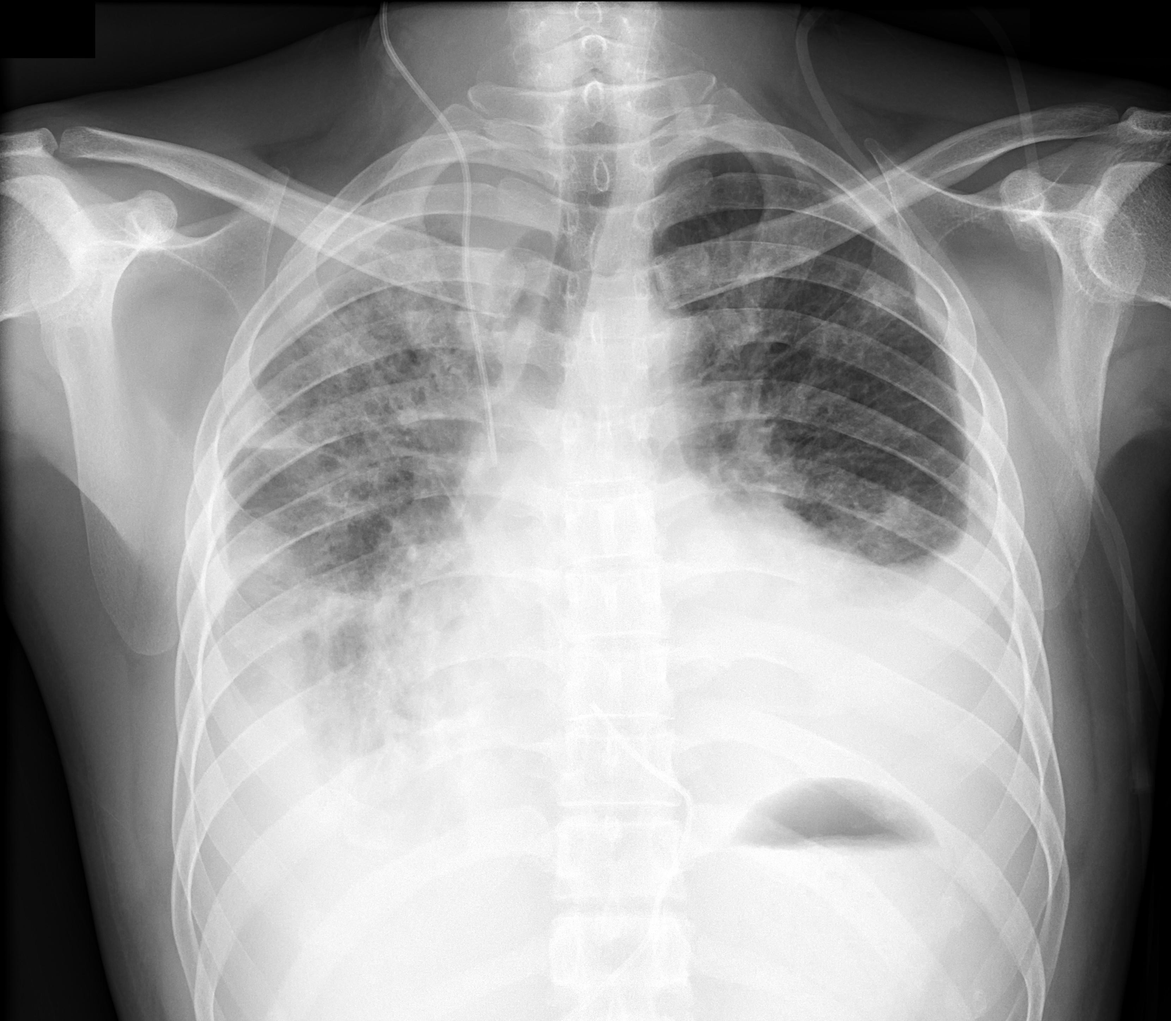Pleural thickening: (232, 135, 563, 443)
